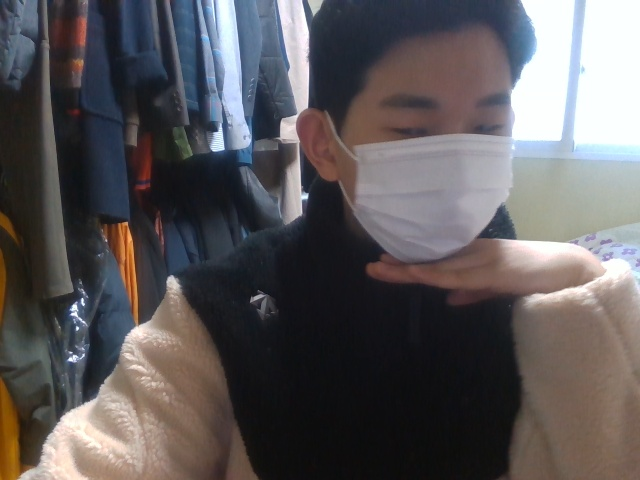WAIT: (347, 217, 622, 349)
